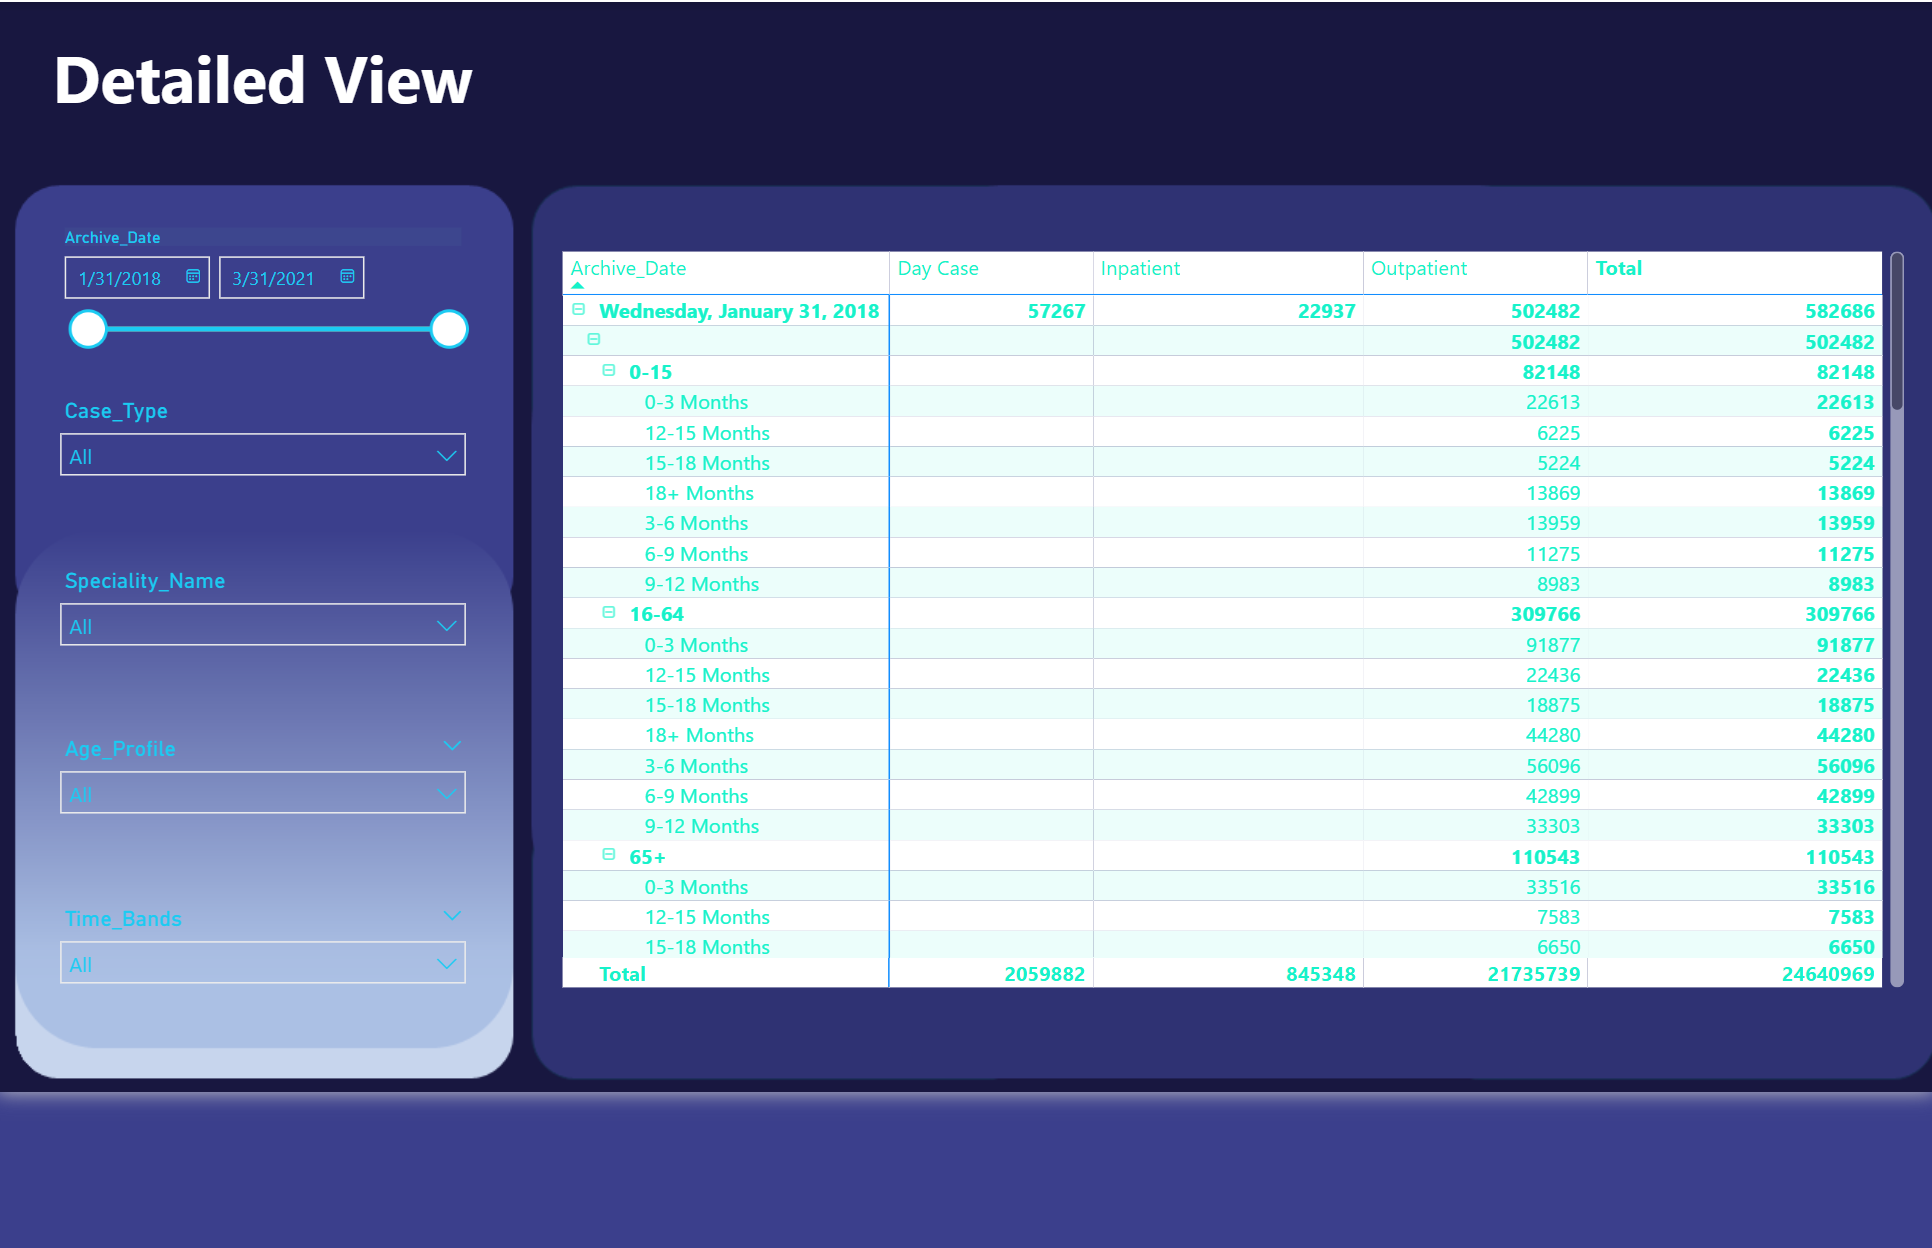

The dashboard page shown, as its layout file describes it:
{"tool":"powerbi","page":{"name":"Detail","canvas":[1280,720],"ordinal":1},"visuals":[{"type":"slicer","fields":{"Values":["All_data.Archive_Date"]},"box":[32,144,288,96],"z":0},{"type":"slicer","fields":{"Values":["All_data.Case_Type"]},"box":[32,256,288,96],"z":1000},{"type":"slicer","fields":{"Values":["All_data.Speciality_Name"]},"box":[32,368,288,96],"z":2000},{"type":"textbox","box":[32,16,336,80],"z":3000},{"type":"slicer","fields":{"Values":["All_data.Age_Profile"]},"box":[32,480,288,96],"z":4000},{"type":"slicer","fields":{"Values":["All_data.Time_Bands"]},"box":[32,592,288,96],"z":5000},{"type":"pivotTable","fields":{"Rows":["All_data.Archive_Date","All_data.Specialty_Name","All_data.Age_Profile","All_data.Time_Bands"],"Columns":["All_data.Case_Type"],"Values":["Sum(All_data.Total)"]},"box":[368,160,896,496],"z":6000}]}

Visuals, with their boxes on the page's 1280x720 design canvas (x1, y1, x2, y2). These are canvas units, not pixel positions in the 1932x1248 screenshot, which may show the page scaled, cropped or inside an application window:
slicer - All_data.Archive_Date: (32, 144, 320, 240)
slicer - All_data.Case_Type: (32, 256, 320, 352)
slicer - All_data.Speciality_Name: (32, 368, 320, 464)
textbox: (32, 16, 368, 96)
slicer - All_data.Age_Profile: (32, 480, 320, 576)
slicer - All_data.Time_Bands: (32, 592, 320, 688)
pivotTable - All_data.Archive_Date x All_data.Specialty_Name: (368, 160, 1264, 656)
